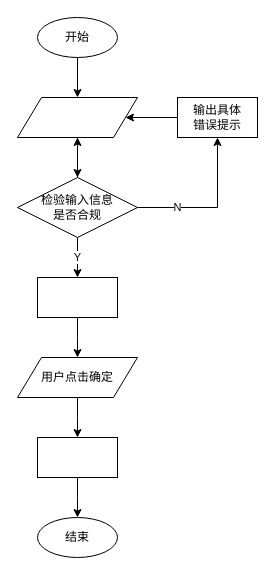
This 275x575 diagram has some shape labels left out. The box of each missing label's shape, as (x1, y1, x2, y2) in pixels:
用户输入用户名 、密码: (16, 96, 138, 138)
输出正确提示: (36, 276, 118, 318)
输出用户注册成功提示: (36, 436, 118, 478)
